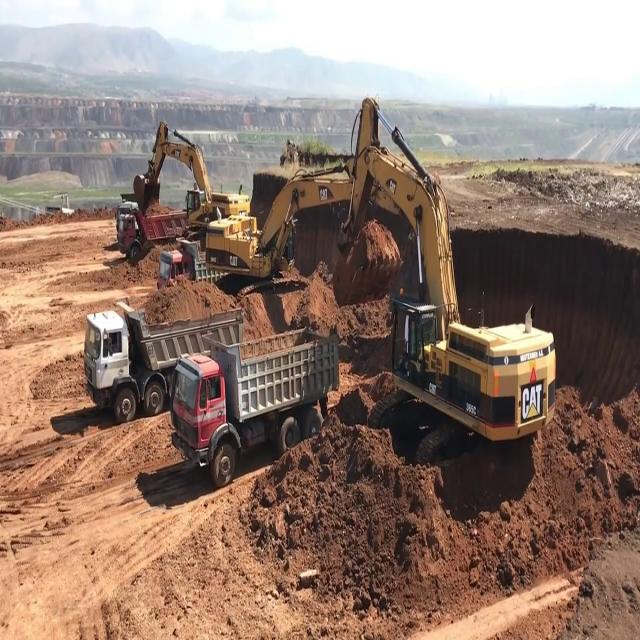excavator: (335, 99, 555, 467), (128, 114, 282, 291)
